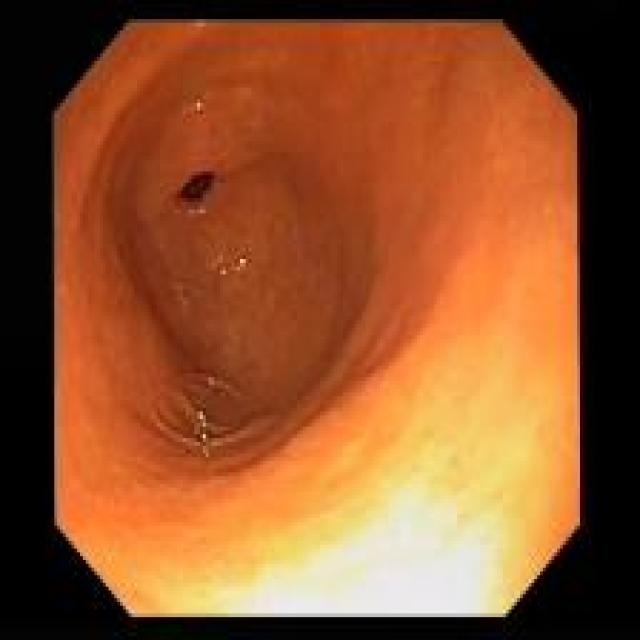bubbles: (152, 359, 257, 455), (230, 248, 251, 276)
contrast: (175, 171, 212, 201)
saturation: (178, 469, 577, 620), (397, 288, 578, 469)
specularity: (196, 427, 222, 451), (231, 251, 252, 279), (193, 404, 214, 425), (194, 99, 203, 109), (219, 265, 226, 275)
